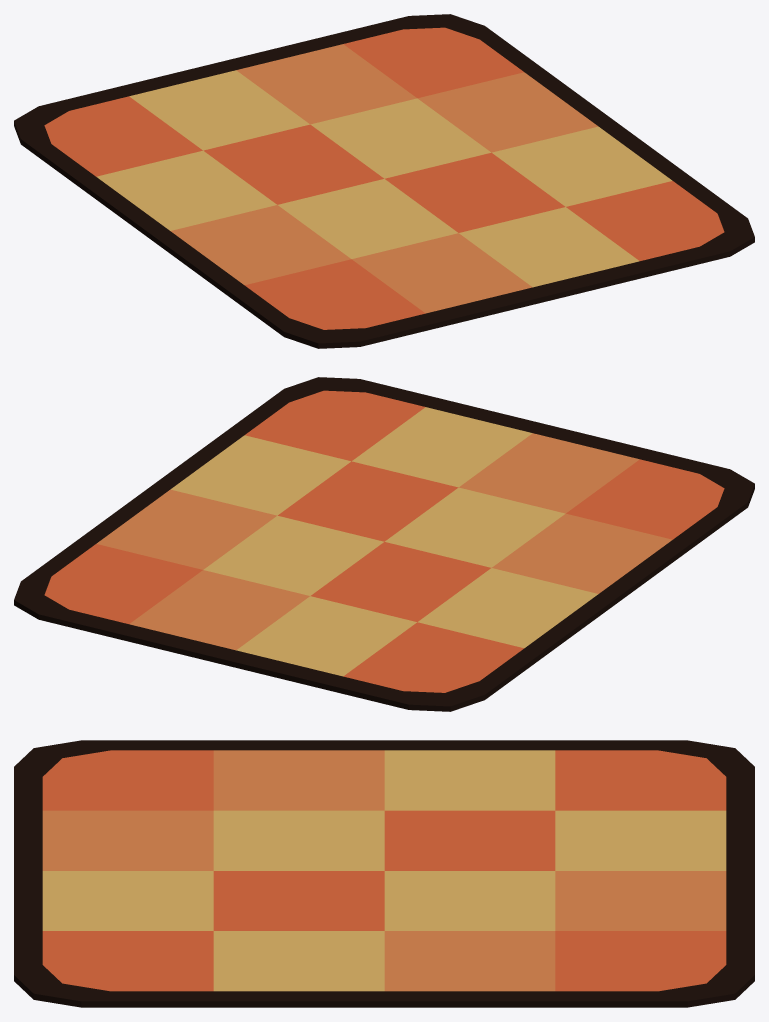
Rendered from Rug_Orange.fbx.
The picture shows the model from 3 angles, top to bottom: view 1: azimuth 30°, elevation 25°; view 2: azimuth 150°, elevation 25°; view 3: azimuth 270°, elevation 25°; orthographic projection. The views are drawn at different scales.
Parts seen in each view (by area): view 1: Plane.055; view 2: Plane.055; view 3: Plane.055.
Boxes of the visible parts, <box> form: Plane.055: <box>14,14,754,348</box>; Plane.055: <box>14,377,754,711</box>; Plane.055: <box>14,740,754,1007</box>.
Bounding box in the file's own units: 450 × 5 × 540.
